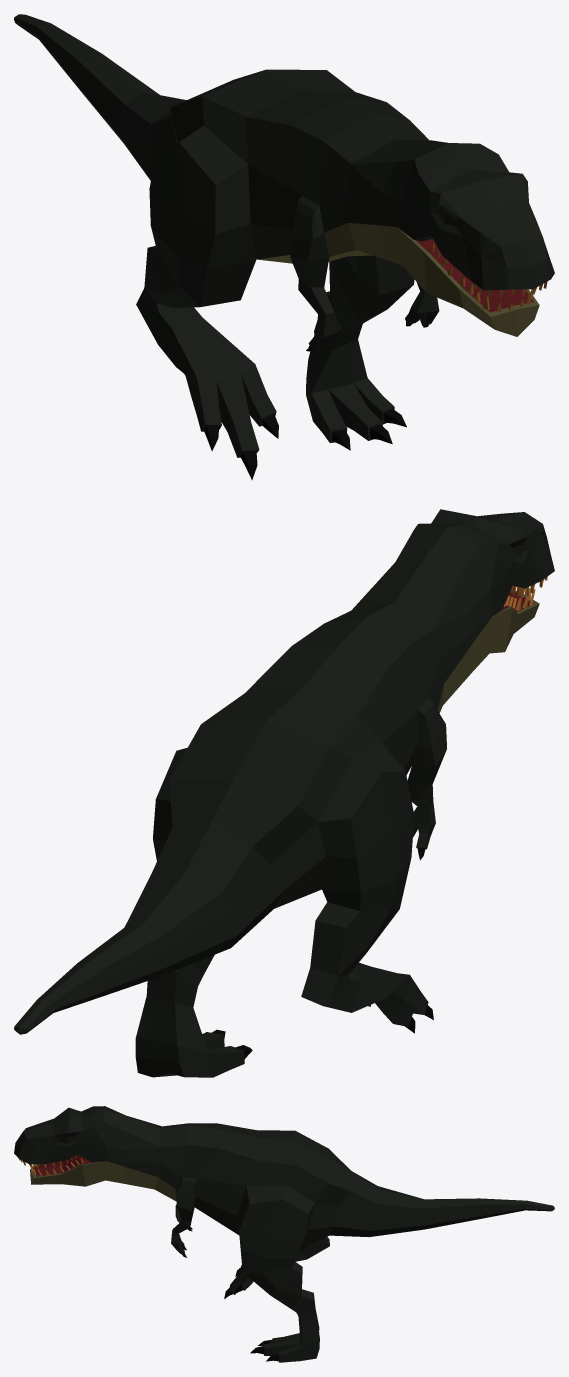
File: Trex_000010.obj
The picture shows the model from 3 angles, top to bottom: view 1: azimuth 30°, elevation 25°; view 2: azimuth 150°, elevation 25°; view 3: azimuth 270°, elevation 25°; orthographic projection. The views are drawn at different scales.
Parts seen in each view (by area): view 1: Trex_Cylinder; view 2: Trex_Cylinder; view 3: Trex_Cylinder.
Boxes of the visible parts, x1=… form: Trex_Cylinder: x1=14, y1=14, x2=554, y2=480; Trex_Cylinder: x1=14, y1=509, x2=554, y2=1077; Trex_Cylinder: x1=14, y1=1106, x2=554, y2=1362.
Size of the model in its own units: 7.96 by 14.43 by 31.44.
